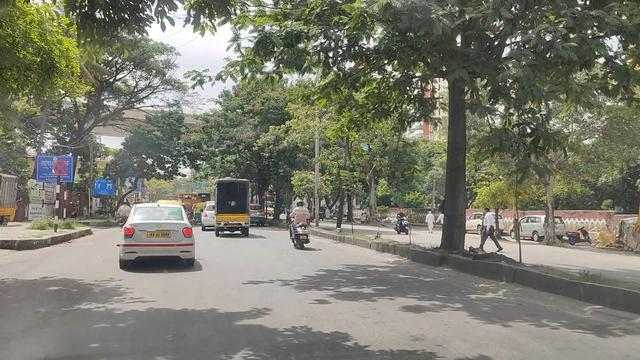HMV: (215, 179, 254, 237)
LMV: (121, 197, 198, 267), (287, 194, 310, 249)
